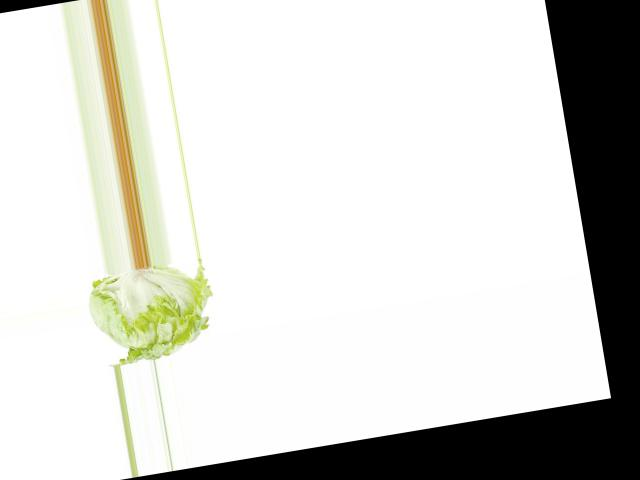lettuce: (80, 255, 225, 368)
